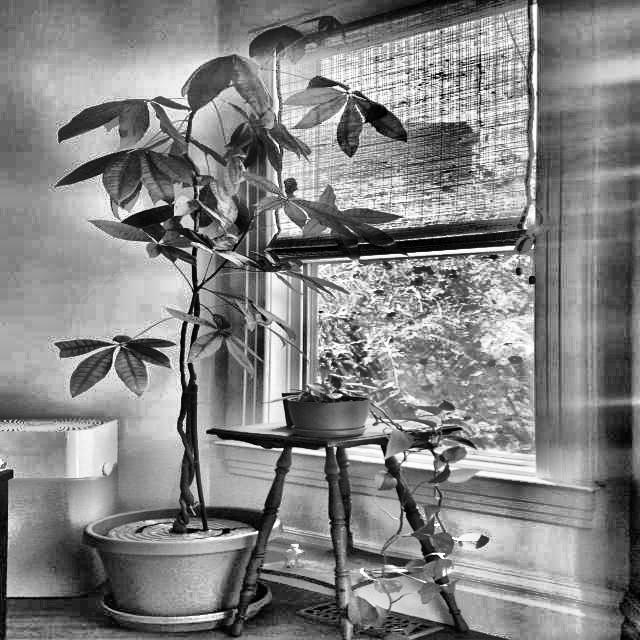plants: (46, 19, 392, 534)
